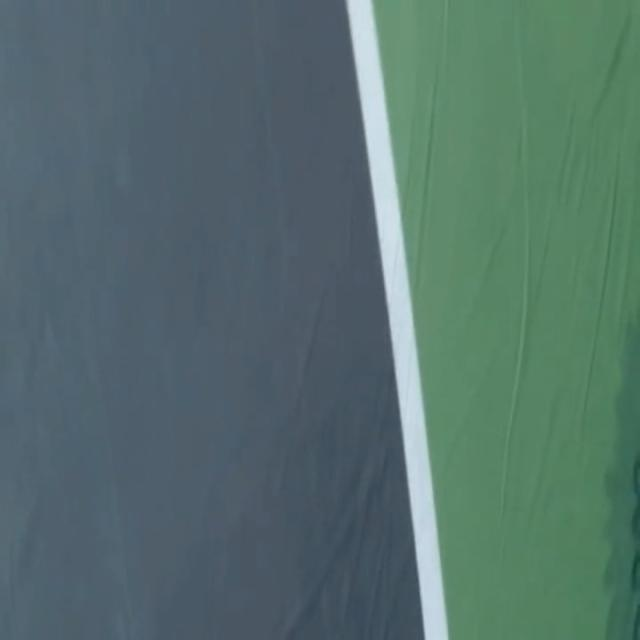right: (347, 0, 447, 639)
